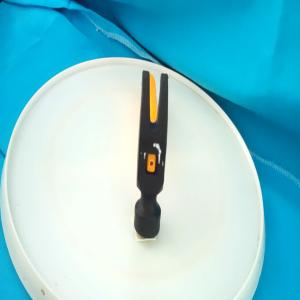martelo: (133, 70, 168, 240)
